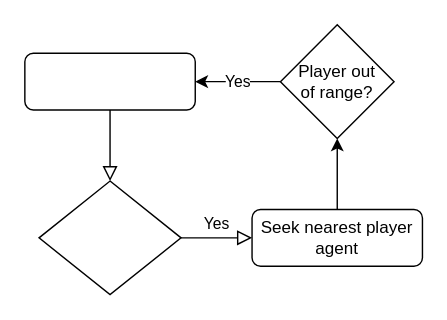
The diagram is 447 pixels wide and 320 high, and some of its shapes have lost their labels. The box of each missing label's shape, as (x1, y1, x2, y2) in pixels:
Is player agent near?: (38, 180, 181, 295)
Wander: (23, 52, 195, 110)
